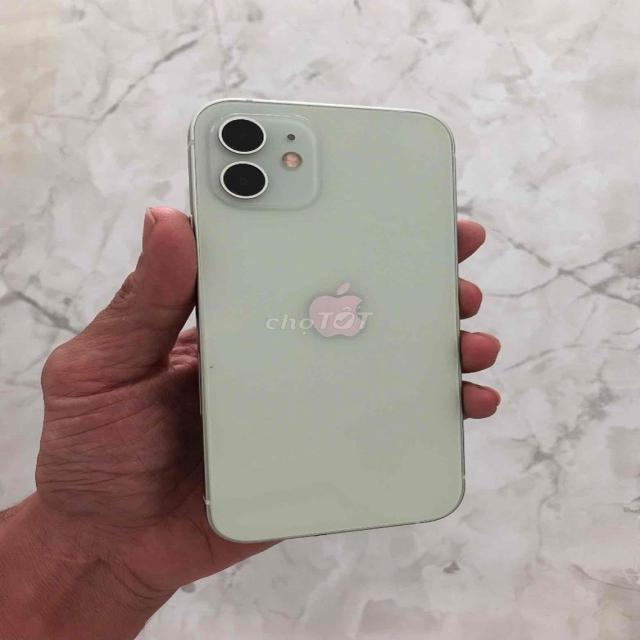gen_12_13: (182, 100, 472, 546)
